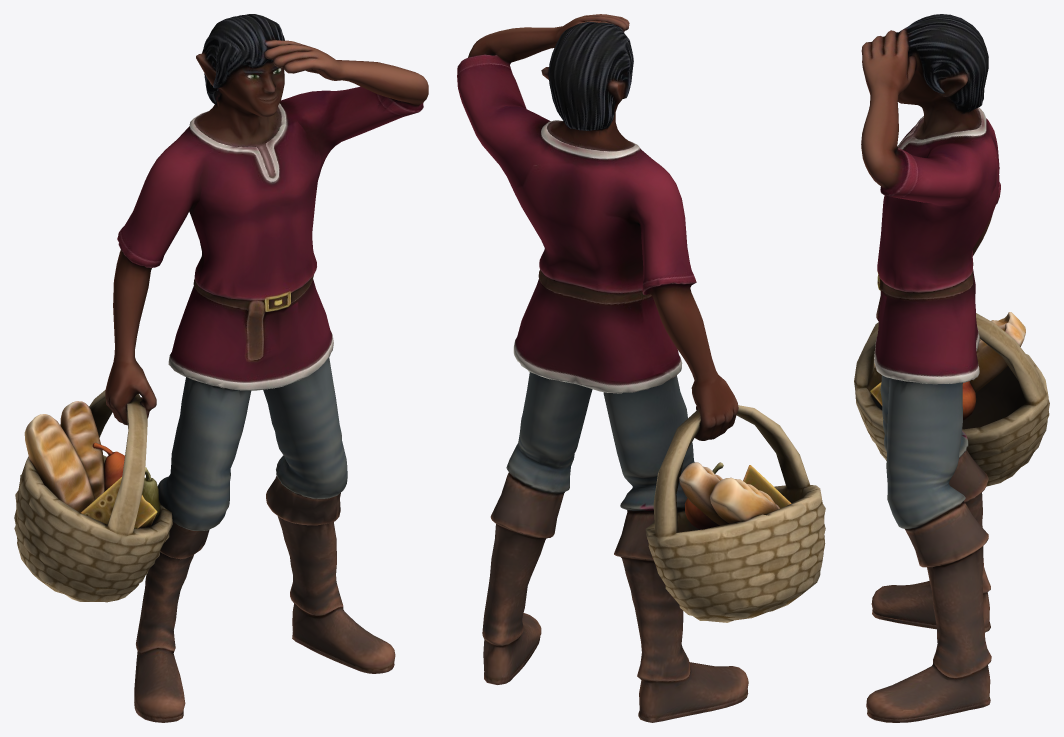
The model's file is MZ4250 - NPC Commoner Male 02.glb.
The picture shows the model from 3 angles, left to right: view 1: azimuth 30°, elevation 25°; view 2: azimuth 150°, elevation 25°; view 3: azimuth 270°, elevation 25°; orthographic projection.
Visible parts, largest first — view 1: body_high.002, basket_high.002, 1_high.002, 2_high.002, 3_high.002, 4_high.002; view 2: body_high.002, basket_high.002, 1_high.002, 2_high.002, 3_high.002; view 3: body_high.002, basket_high.002, 2_high.002, 4_high.002.
Boxes of the visible parts, left/top/right/bottom form: body_high.002: left=105, top=14, right=428, bottom=722; basket_high.002: left=14, top=390, right=172, bottom=602; 1_high.002: left=24, top=414, right=95, bottom=512; 2_high.002: left=60, top=401, right=104, bottom=499; 3_high.002: left=80, top=477, right=157, bottom=528; 4_high.002: left=93, top=443, right=124, bottom=490; body_high.002: left=457, top=14, right=748, bottom=722; basket_high.002: left=645, top=405, right=825, bottom=622; 1_high.002: left=710, top=477, right=779, bottom=523; 2_high.002: left=679, top=462, right=728, bottom=525; 3_high.002: left=743, top=465, right=791, bottom=508; body_high.002: left=861, top=14, right=1000, bottom=722; basket_high.002: left=854, top=313, right=1049, bottom=486; 2_high.002: left=970, top=323, right=1024, bottom=392; 4_high.002: left=962, top=381, right=976, bottom=420.
Size of the model in its own units: 3.85 by 6.46 by 1.77.
1 material, 1 textured.
